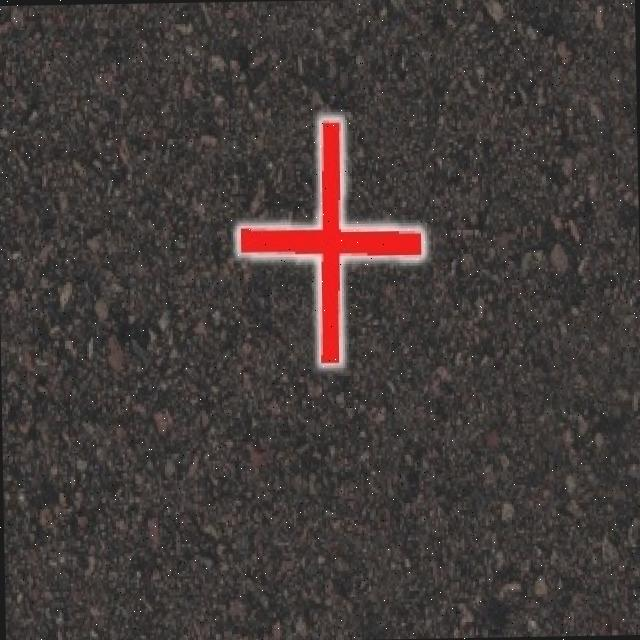x_marker: (236, 117, 424, 363)
